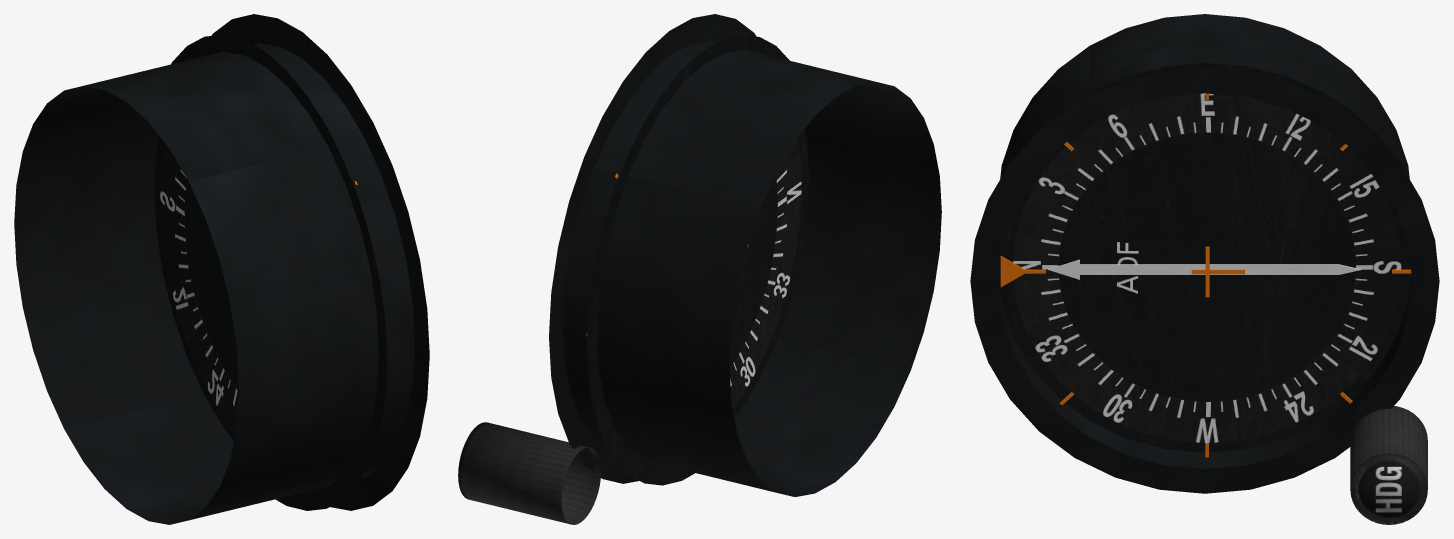
The picture shows the model from 3 angles, left to right: view 1: azimuth 30°, elevation 25°; view 2: azimuth 150°, elevation 25°; view 3: azimuth 270°, elevation 25°; orthographic projection. The views are drawn at different scales.
Parts seen in each view (by area): view 1: Case, CompassRose, CompassRoseCenter; view 2: Case, CompassRose, HDGSelector, CompassRoseCenter; view 3: CompassRoseCenter, Case, CompassRose, HDGSelector, KI227.ADFNeedle, Marker, AircraftSymbol.
Boxes of the visible parts, bbox=[...] form: Case: bbox=[14, 14, 429, 524]; CompassRose: bbox=[154, 34, 387, 510]; CompassRoseCenter: bbox=[185, 180, 238, 390]; Case: bbox=[549, 14, 941, 496]; CompassRose: bbox=[587, 35, 809, 485]; HDGSelector: bbox=[458, 422, 600, 524]; CompassRoseCenter: bbox=[729, 175, 777, 366]; CompassRoseCenter: bbox=[1058, 132, 1355, 401]; Case: bbox=[970, 14, 1439, 493]; CompassRose: bbox=[998, 63, 1411, 452]; HDGSelector: bbox=[1350, 406, 1427, 524]; KI227.ADFNeedle: bbox=[1048, 259, 1361, 279]; Marker: bbox=[1000, 93, 1411, 457]; AircraftSymbol: bbox=[1191, 246, 1244, 297].
Size of the model in its own units: 0.0533 by 0.0843 by 0.0843.
1 material, 1 textured.
